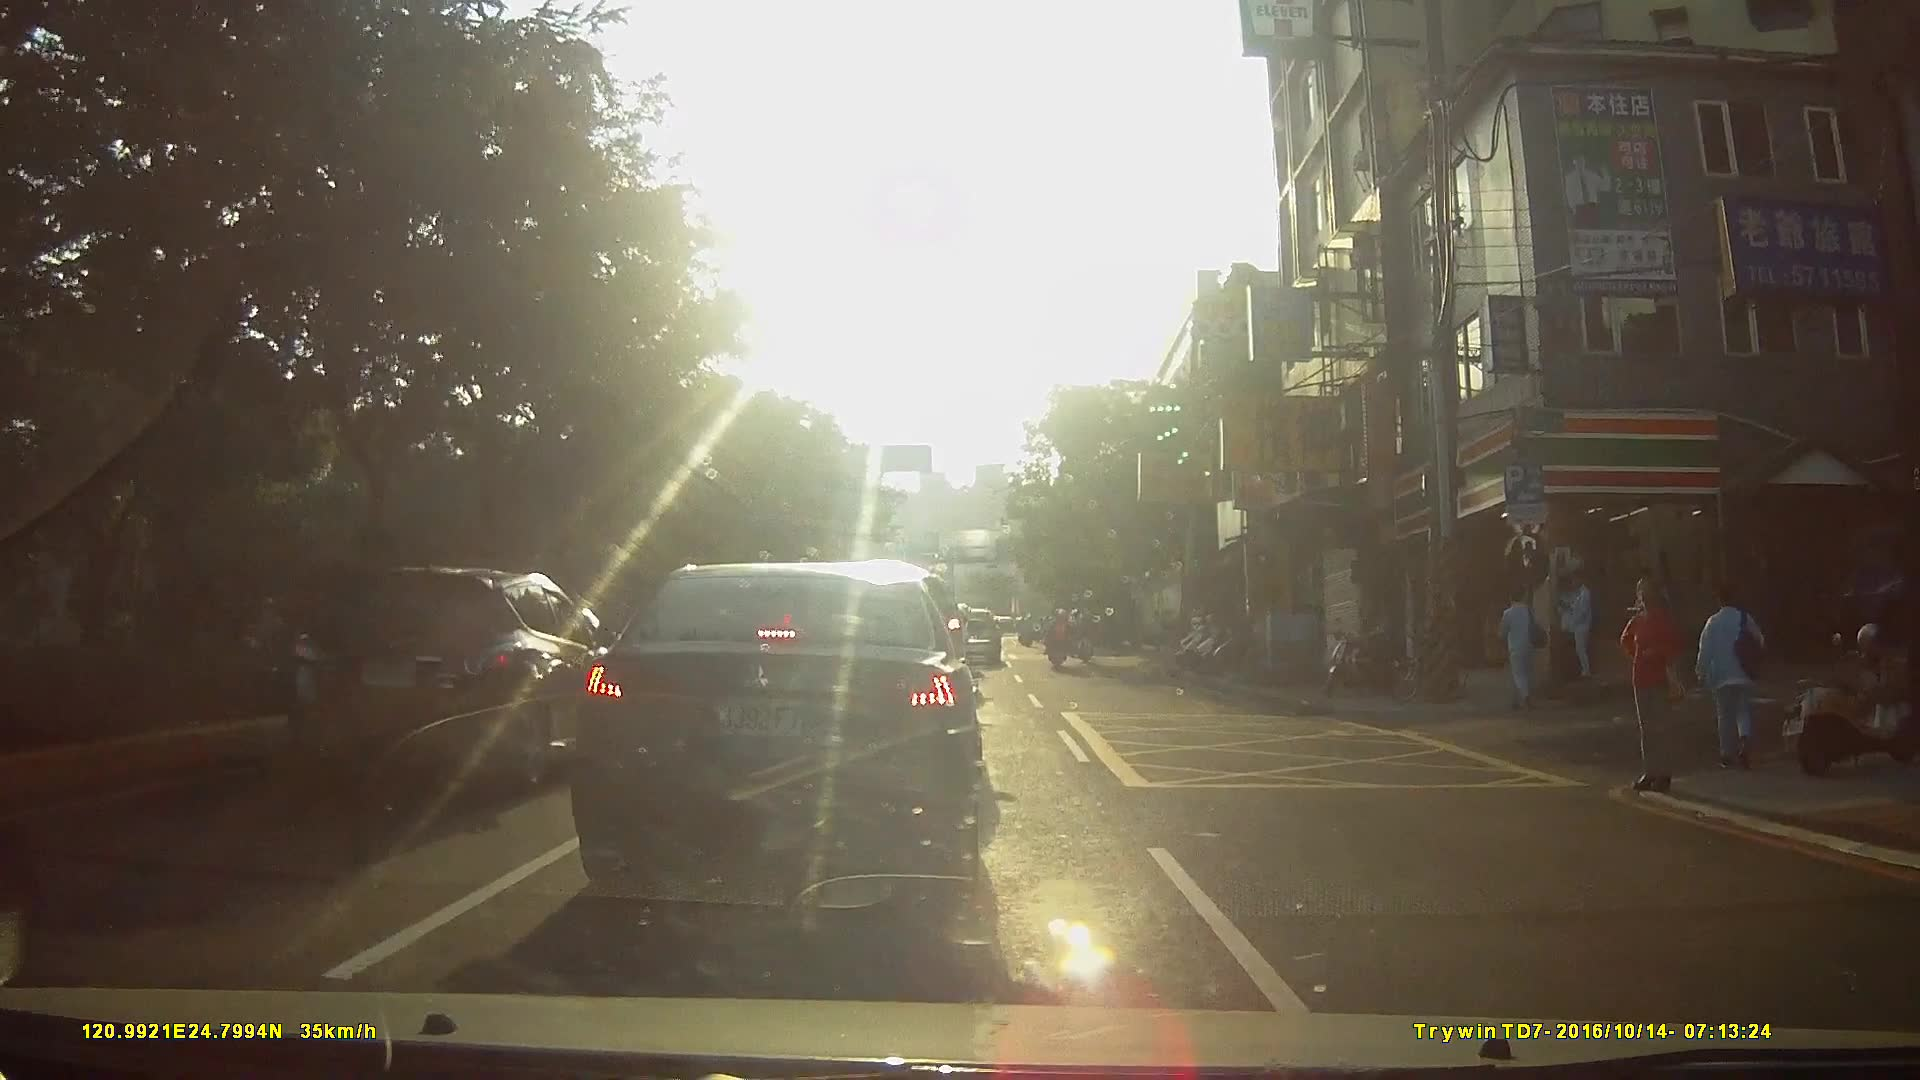pedestrian: (1614, 579, 1682, 791), (1691, 582, 1767, 767), (1494, 583, 1548, 714), (1555, 570, 1597, 681), (1552, 570, 1575, 686)
rider: (1043, 607, 1076, 672), (1066, 607, 1091, 660)
vehicle: (565, 560, 1005, 899), (278, 563, 646, 809)
